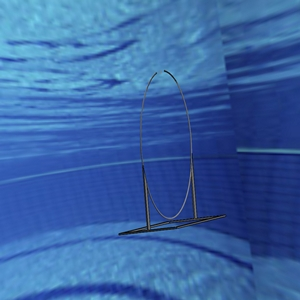circle: (118, 68, 226, 235)
